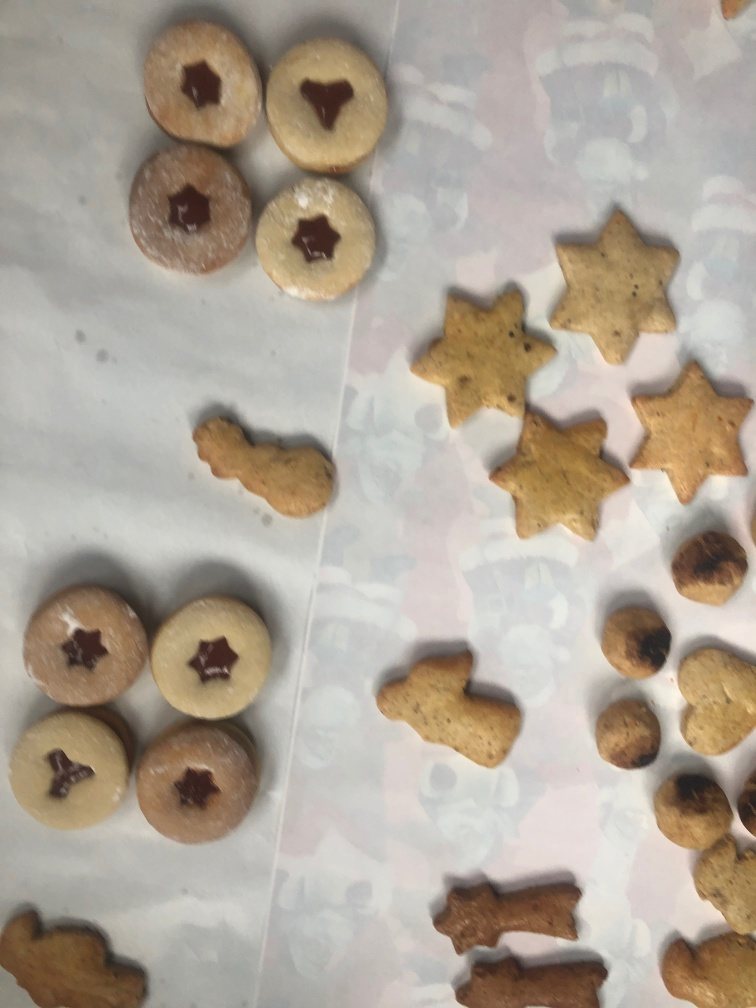angel: (372, 645, 527, 773)
christmas shortbread with jam: (265, 26, 399, 176), (137, 11, 264, 160), (127, 137, 255, 282), (258, 170, 388, 306), (149, 590, 282, 715), (137, 718, 264, 845), (21, 582, 151, 705), (9, 702, 131, 827)
santa claus: (1, 895, 152, 1007), (652, 924, 756, 1007)
shooting star: (419, 865, 594, 952), (443, 943, 613, 1004)
snowball: (669, 522, 754, 612), (648, 761, 733, 846), (594, 592, 672, 677), (587, 692, 668, 768)
snowman: (183, 398, 343, 522)
star: (543, 193, 686, 369), (405, 272, 560, 428), (619, 350, 756, 502), (490, 399, 632, 543)
